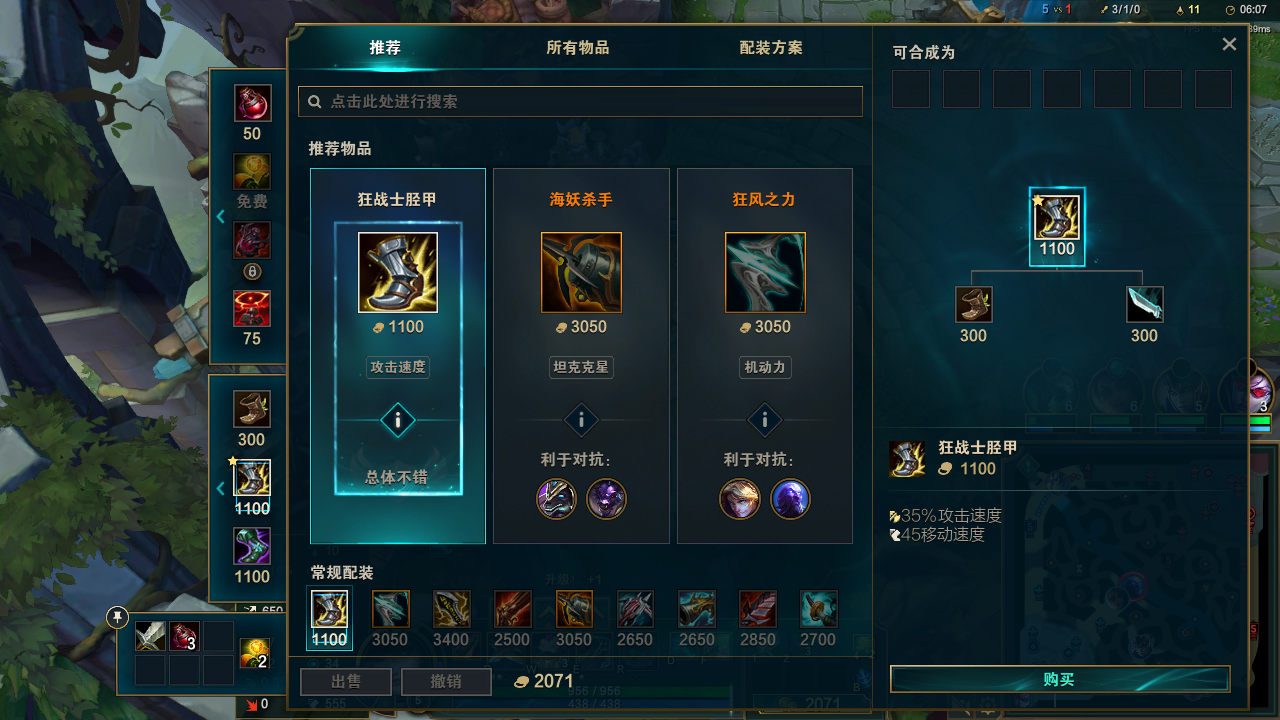GTH: (543, 396, 621, 440), (735, 401, 798, 439)
TJGTH: (334, 397, 465, 450)
TJJM: (341, 35, 432, 69)
